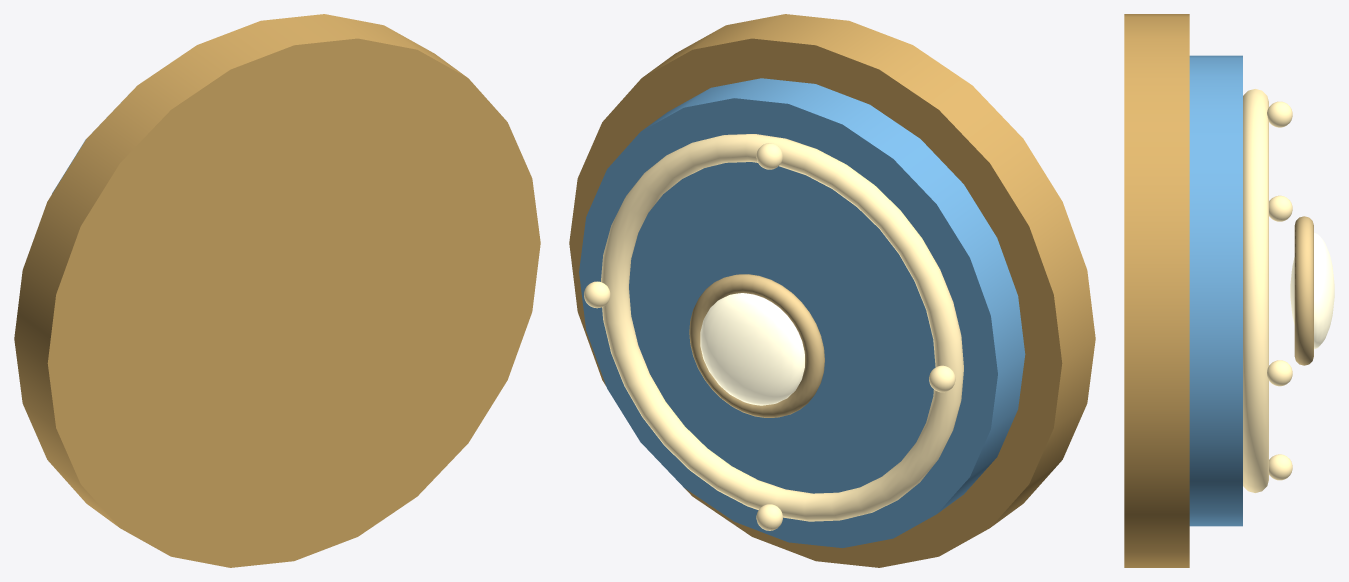
The model's file is buckler.glb.
The picture shows the model from 3 angles, left to right: view 1: azimuth 30°, elevation 25°; view 2: azimuth 150°, elevation 25°; view 3: azimuth 270°, elevation 25°; orthographic projection. The views are drawn at different scales.
Visible parts, largest first — view 1: GoldRim; view 2: DomedEnamel, GoldRim, InnerFillet, EnamelGem, GoldBezel; view 3: GoldRim, DomedEnamel, InnerFillet, GoldBezel, EnamelGem, Stud, _MeshInstance3D_5, _MeshInstance3D_7, _MeshInstance3D_6.
Boxes of the visible parts, <box> form: GoldRim: <box>14,14,540,567</box>; DomedEnamel: <box>579,78,1025,548</box>; GoldRim: <box>569,14,1095,567</box>; InnerFillet: <box>601,134,963,521</box>; EnamelGem: <box>700,293,804,405</box>; GoldBezel: <box>689,274,824,417</box>; GoldRim: <box>1124,14,1189,567</box>; DomedEnamel: <box>1189,55,1242,526</box>; InnerFillet: <box>1243,89,1268,492</box>; GoldBezel: <box>1294,216,1313,365</box>; EnamelGem: <box>1290,232,1334,349</box>; Stud: <box>1267,360,1292,386</box>; _MeshInstance3D_5: <box>1267,101,1292,127</box>; _MeshInstance3D_7: <box>1269,454,1292,480</box>; _MeshInstance3D_6: <box>1269,195,1292,221</box>.
Bounding box in the file's own units: 0.068 × 0.068 × 0.0257.
